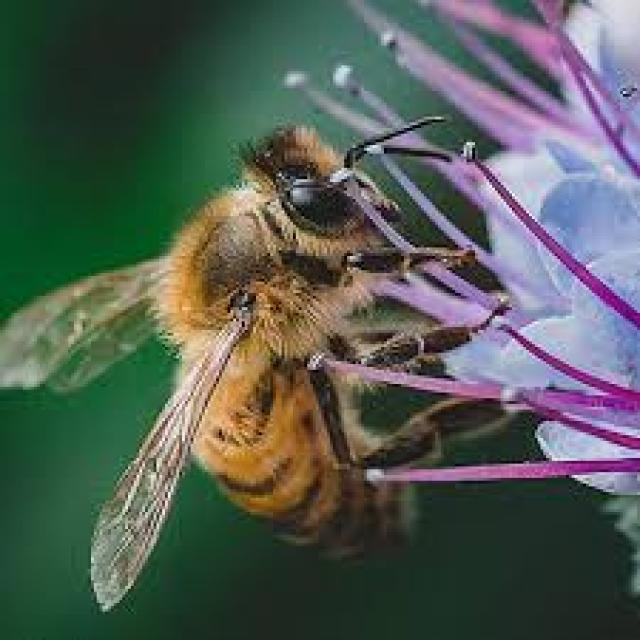Bees: (2, 112, 509, 608)
